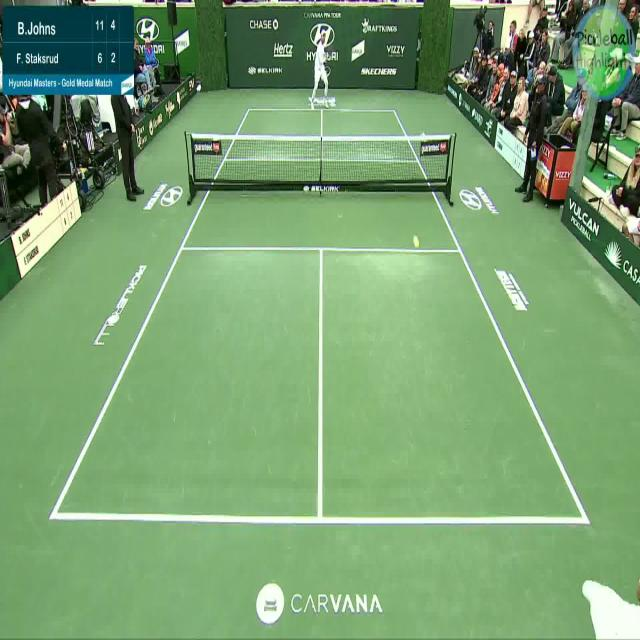ball: (412, 232, 422, 250)
